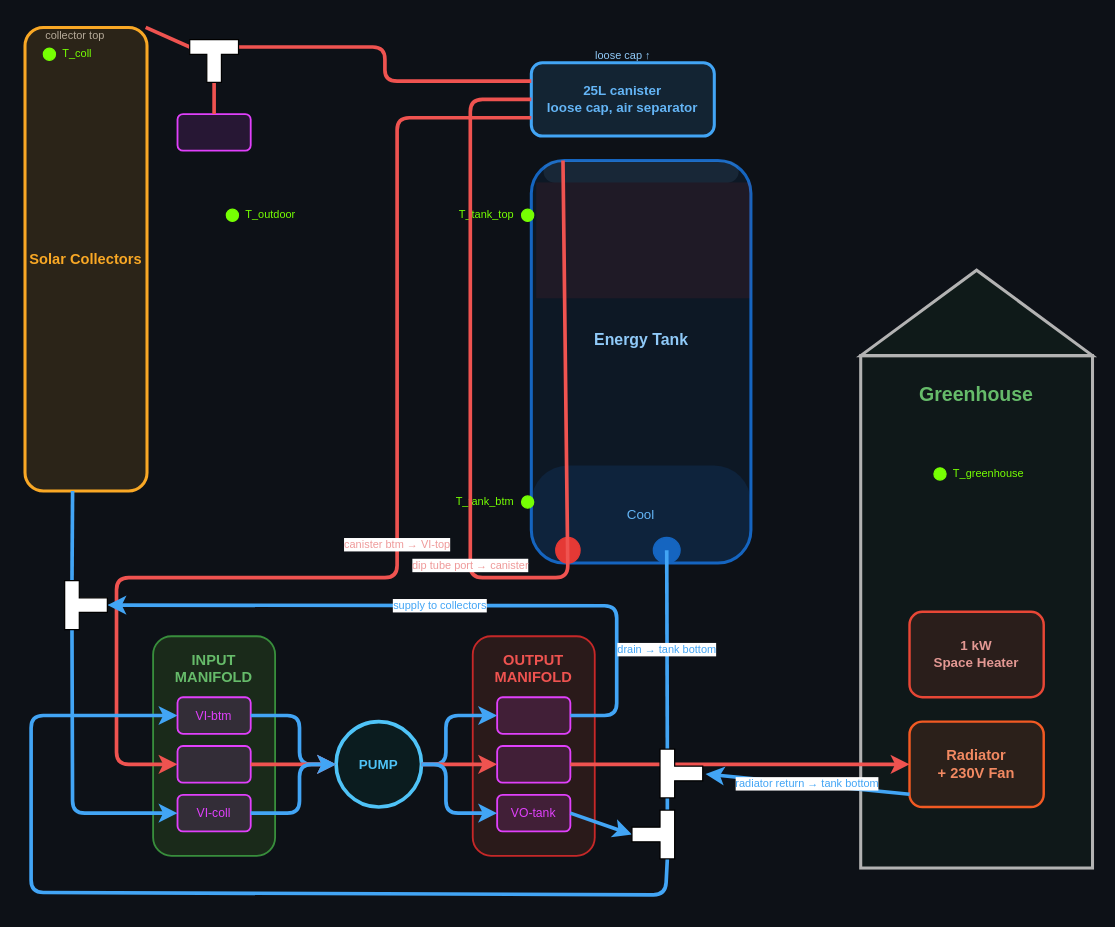
Some shapes in this 1115 by 927 pixel diagram are drawn without their labels. The centre of each missing label's shape, as x and y in pixels:
"gas pocket" goes at (640,171).
"Hot" goes at (643,240).
"V-air" goes at (213,132).
"VI-top" goes at (213,764).
"VO-coll" goes at (533,715).
"VO-rad" goes at (533,764).
